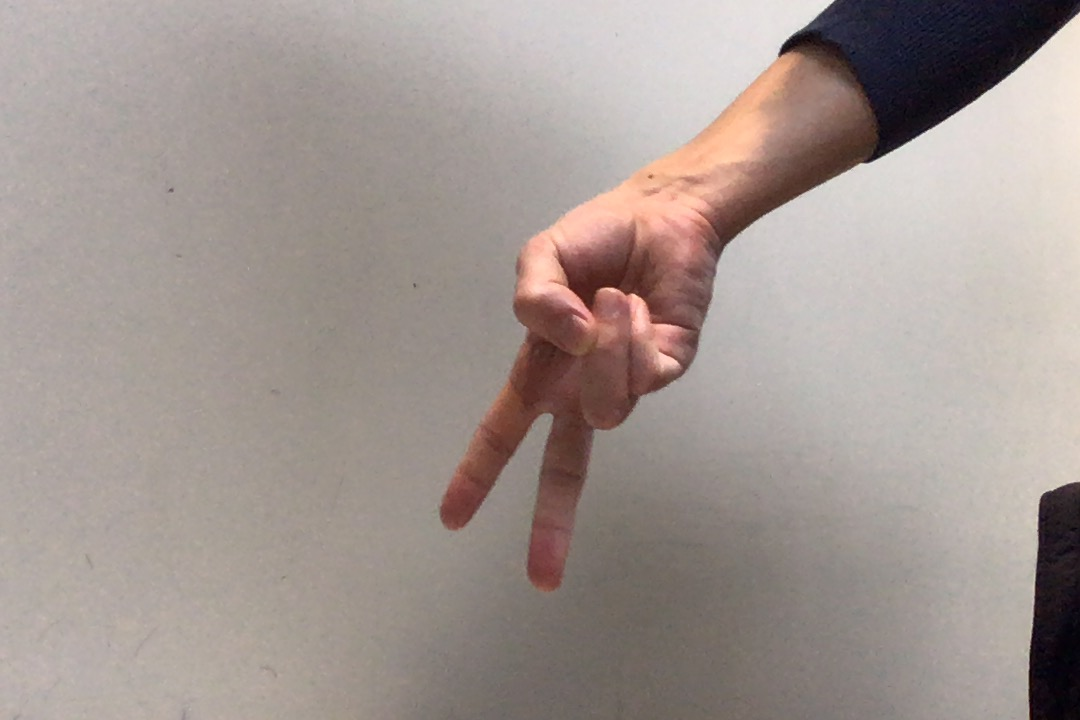palmhand: (432, 178, 436, 253)
peacesign: (434, 193, 723, 597)
